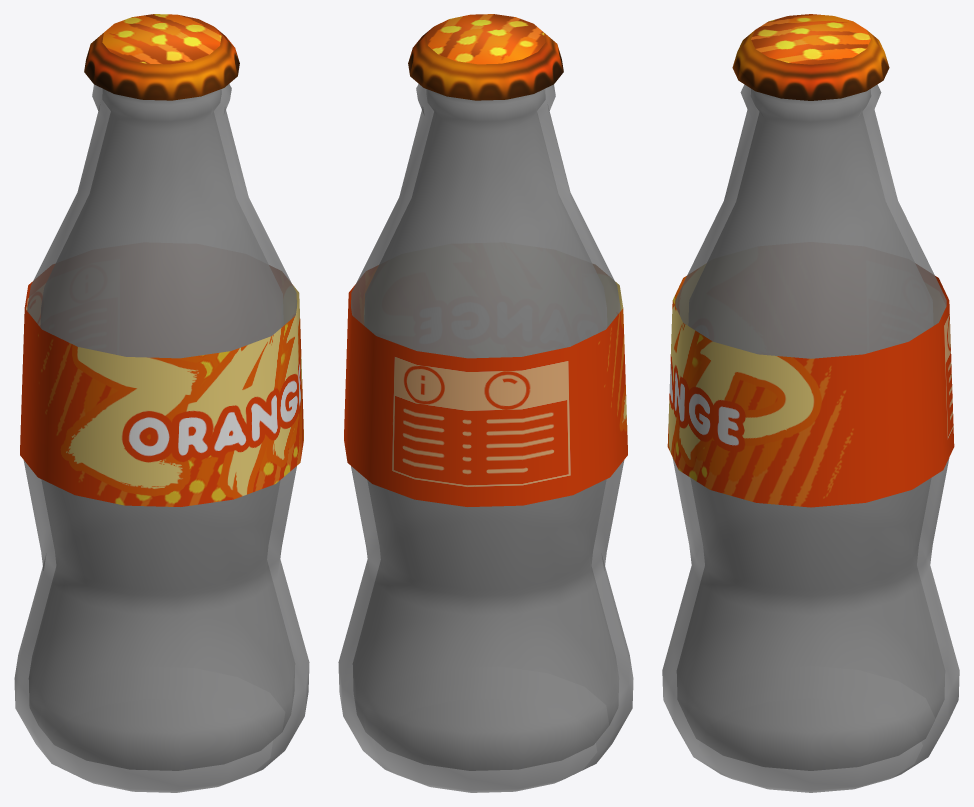
File: 004-Pop_Bottle_3.FBX
3 views of the same model, side by side, from view 1: azimuth 30°, elevation 25°; view 2: azimuth 150°, elevation 25°; view 3: azimuth 270°, elevation 25° (orthographic).
Parts seen in each view (by area): view 1: Pop_Bottle_Glass002, 004-Pop_Bottle_03; view 2: Pop_Bottle_Glass002, 004-Pop_Bottle_03; view 3: Pop_Bottle_Glass002, 004-Pop_Bottle_03.
Part boxes in pixels (bbox=[...]): Pop_Bottle_Glass002: bbox=[14, 84, 309, 792]; 004-Pop_Bottle_03: bbox=[20, 14, 303, 506]; Pop_Bottle_Glass002: bbox=[338, 84, 633, 792]; 004-Pop_Bottle_03: bbox=[344, 14, 627, 506]; Pop_Bottle_Glass002: bbox=[662, 84, 959, 792]; 004-Pop_Bottle_03: bbox=[667, 14, 954, 507].
Bounding box in the file's own units: 11.83 × 31.28 × 11.83.
